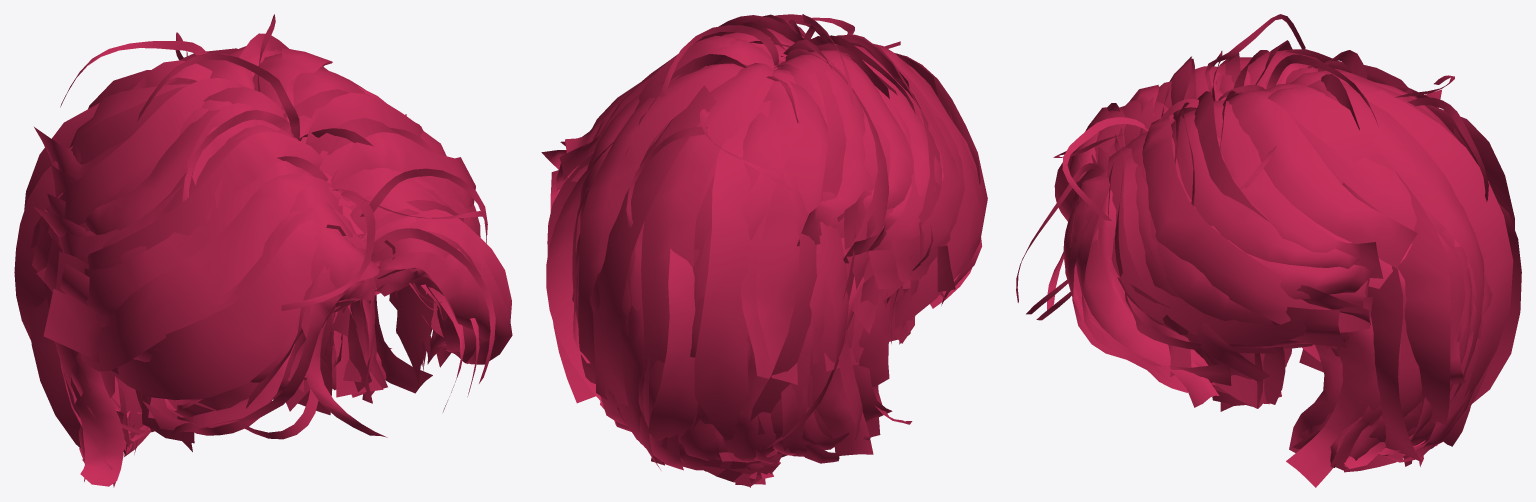
File: uploads_files_4892434_pink+hair.fbx
3 views of the same model, side by side, from view 1: azimuth 30°, elevation 25°; view 2: azimuth 150°, elevation 25°; view 3: azimuth 270°, elevation 25° (orthographic). The views are drawn at different scales.
Visible parts, largest first — view 1: Center_part_curtains; view 2: Center_part_curtains; view 3: Center_part_curtains.
Part boxes in pixels (x1,y1,x2,y2): Center_part_curtains: (14, 14, 512, 487); Center_part_curtains: (541, 14, 987, 487); Center_part_curtains: (1016, 14, 1521, 487).
Bounding box in the file's own units: 250 × 261 × 290.
